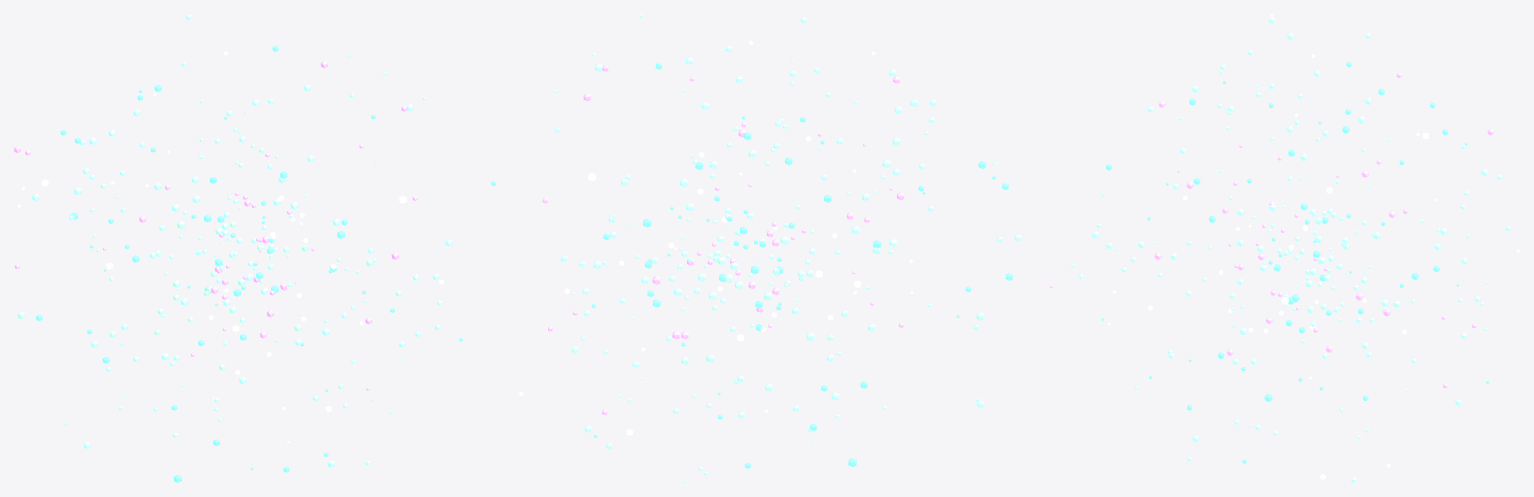
File: cosmic-particles.glb
The picture shows the model from 3 angles, left to right: view 1: azimuth 30°, elevation 25°; view 2: azimuth 150°, elevation 25°; view 3: azimuth 270°, elevation 25°; orthographic projection. The views are drawn at different scales.
Parts seen in each view (by area): view 1: CosmicParticles; view 2: CosmicParticles; view 3: CosmicParticles.
Boxes of the visible parts, bbox=[...] form: CosmicParticles: bbox=[14, 14, 462, 482]; CosmicParticles: bbox=[491, 14, 1021, 482]; CosmicParticles: bbox=[1050, 14, 1519, 482].
Size of the model in its own units: 25.4 by 24.7 by 26.36.
